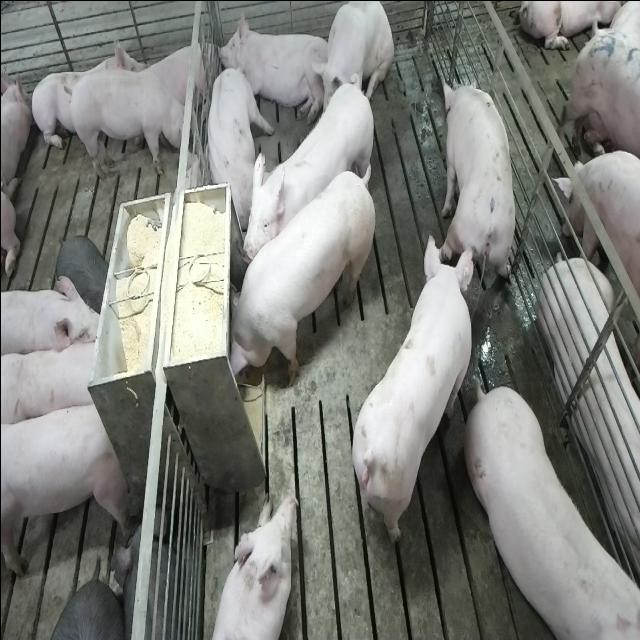Feeding: (218, 163, 370, 390)
Sitting: (312, 2, 394, 132), (202, 62, 266, 220)
Standing: (467, 382, 640, 640), (345, 239, 469, 552), (242, 76, 378, 268), (1, 395, 130, 581), (434, 75, 518, 296), (66, 66, 192, 176), (1, 332, 101, 431), (0, 275, 104, 362)
Sternal_lying: (31, 30, 146, 159), (206, 487, 295, 640), (217, 12, 325, 130), (140, 36, 212, 120)
